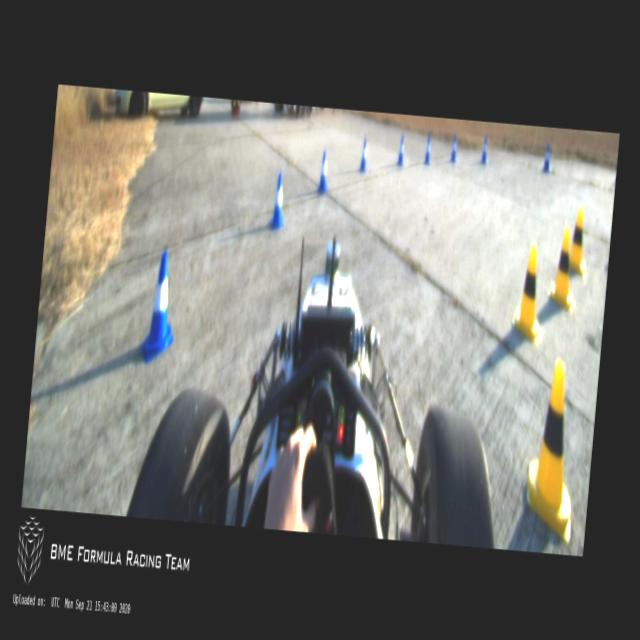blue_cone: (138, 250, 181, 366), (266, 169, 288, 232), (314, 148, 332, 194), (357, 135, 369, 172), (541, 140, 552, 174), (396, 134, 406, 167), (422, 134, 432, 166), (479, 134, 489, 164), (448, 134, 458, 162)
yellow_cone: (522, 356, 586, 545), (509, 240, 547, 344), (545, 223, 581, 313), (567, 203, 591, 277)
